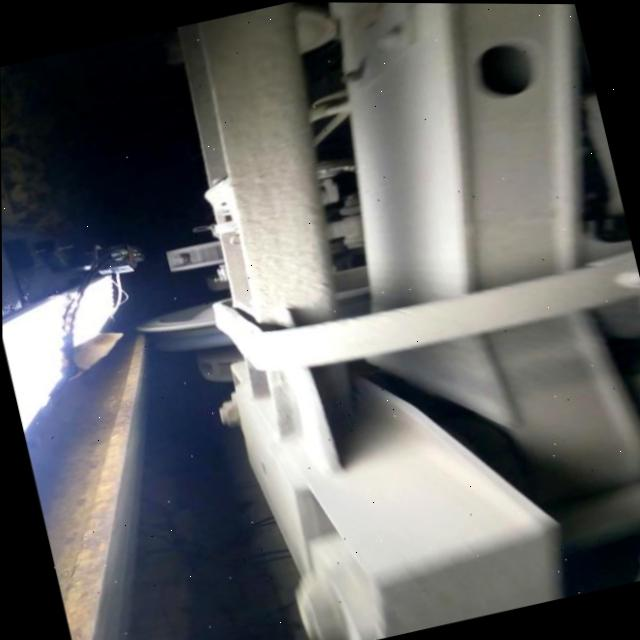Wheel: (134, 301, 230, 351)
